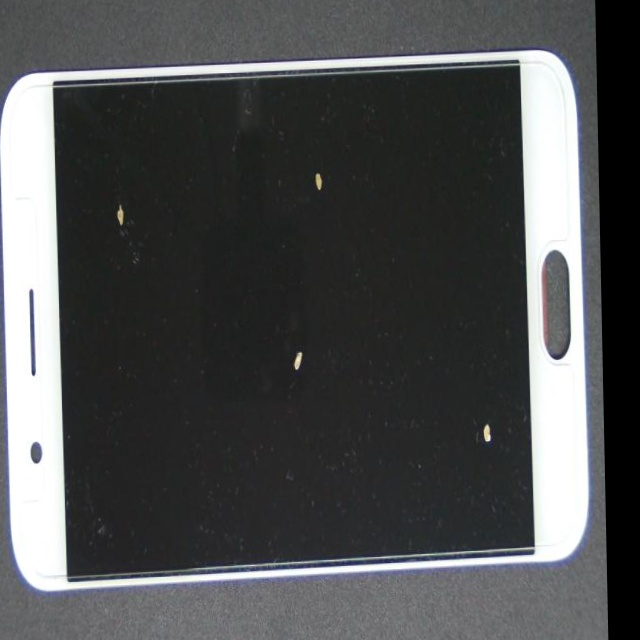stain: (234, 170, 608, 640), (146, 187, 480, 538), (146, 27, 481, 256), (43, 43, 185, 306)
